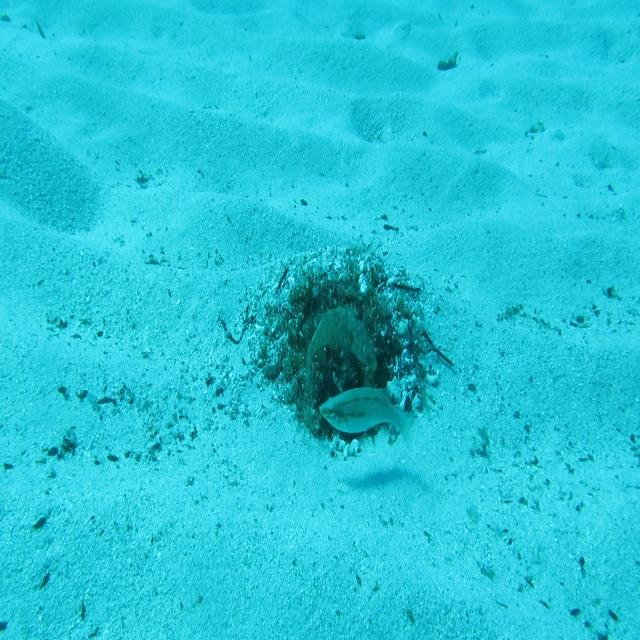BEND: (303, 298, 379, 378)
core_nest: (316, 292, 363, 338)
female: (318, 382, 416, 457)
nest: (229, 222, 444, 476)
vegetation: (435, 50, 461, 72)
